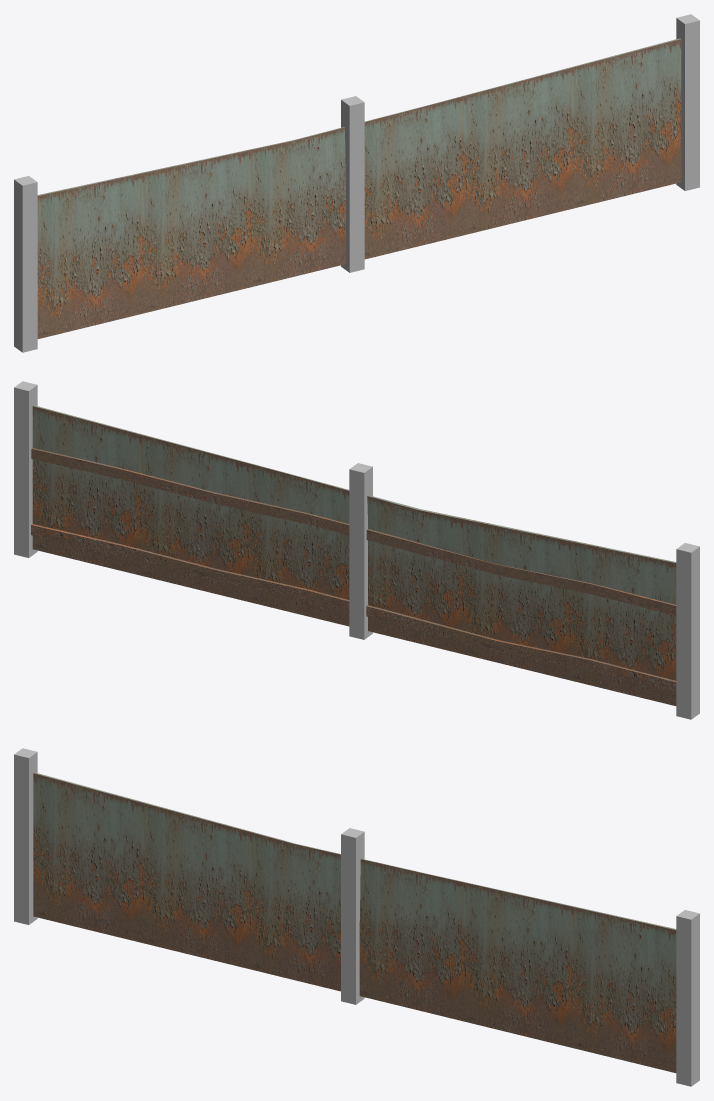
File: fence1.fbx
3 renders of one model, top to bottom at view 1: azimuth 30°, elevation 25°; view 2: azimuth 150°, elevation 25°; view 3: azimuth 330°, elevation 25°, orthographic.
Parts seen in each view (by area): view 1: Mesh Object; view 2: Mesh Object; view 3: Mesh Object.
Part boxes in pixels (x1=…): Mesh Object: x1=14, y1=14, x2=699, y2=352; Mesh Object: x1=14, y1=381, x2=699, y2=719; Mesh Object: x1=14, y1=748, x2=699, y2=1086.
Size of the model in its own units: 10.65 by 2.51 by 0.2355.
